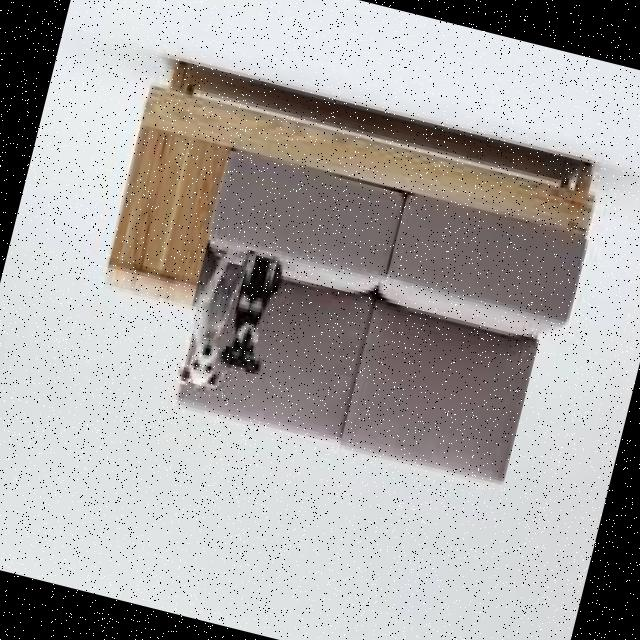Sofa: (30, 22, 629, 546)
